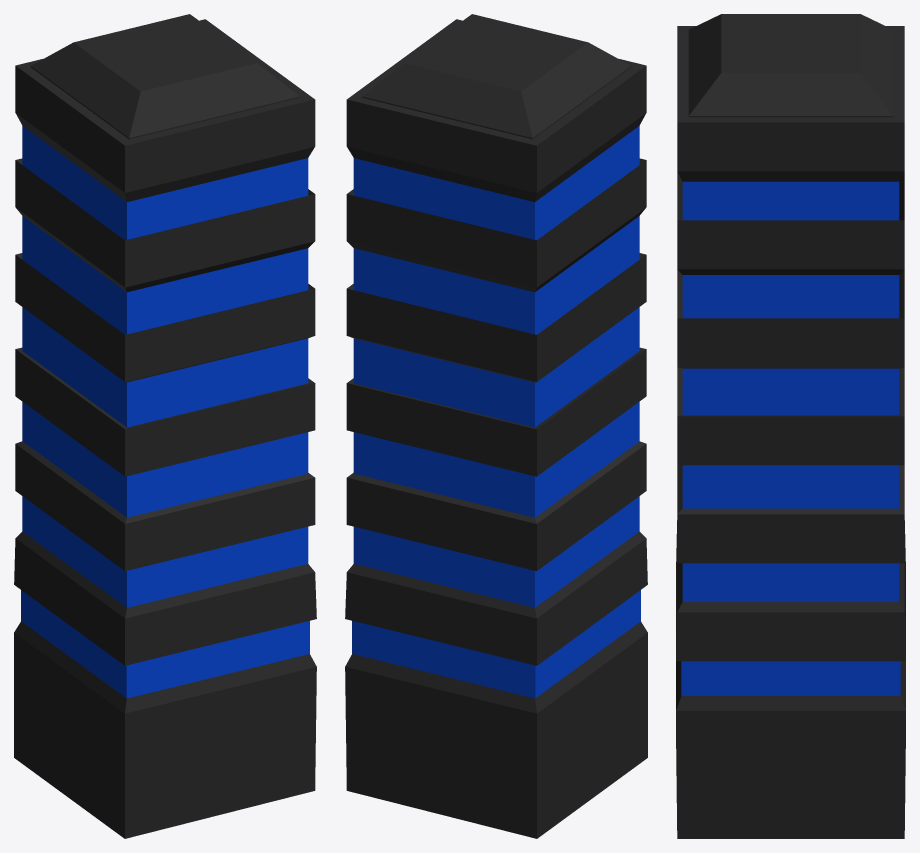
The model's file is Blue Skyscraper.fbx.
The picture shows the model from 3 angles, left to right: view 1: azimuth 30°, elevation 25°; view 2: azimuth 150°, elevation 25°; view 3: azimuth 270°, elevation 25°; orthographic projection. The views are drawn at different scales.
Visible parts, largest first — view 1: Cube; view 2: Cube; view 3: Cube.
Boxes of the visible parts, left/top/right/bottom form: Cube: left=14, top=14, right=316, bottom=838; Cube: left=345, top=14, right=647, bottom=838; Cube: left=676, top=14, right=905, bottom=838.
Size of the model in its own units: 399 by 1433 by 399.
